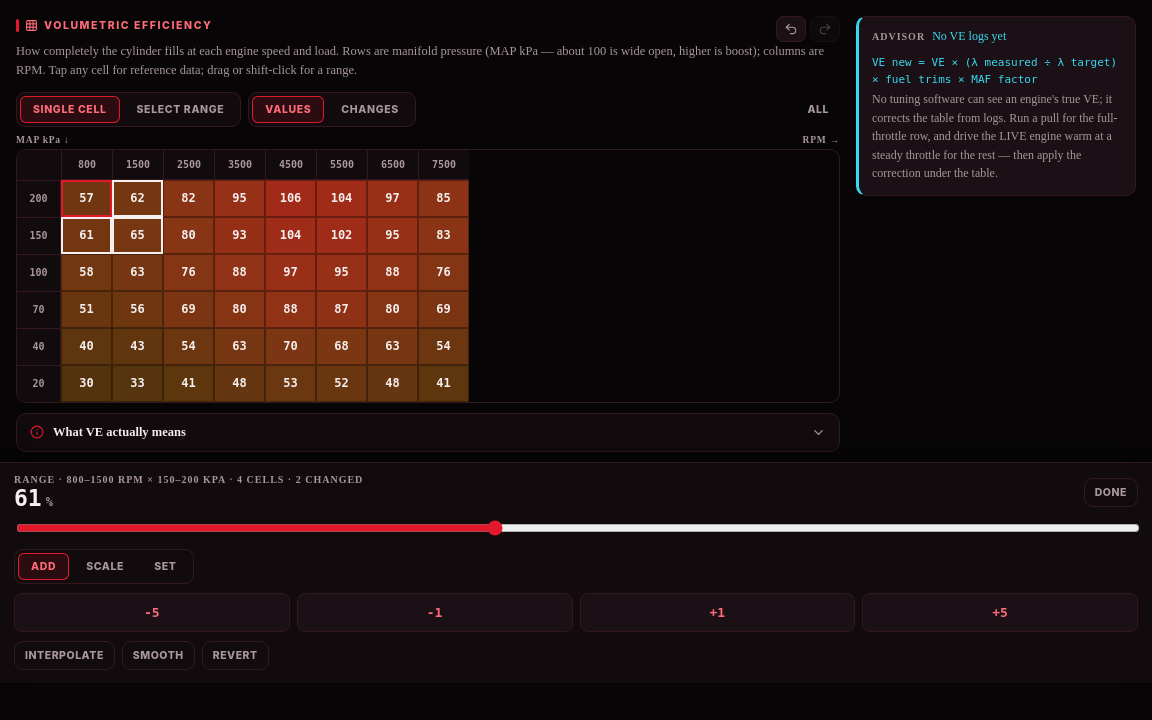
Test: REVERT and the changed count › puts the changed cells back in one undo step, counting only those
The width and height of the screenshot is (1152, 720).
Step 1. Click the button "REVERT" → (235,655), box [202,640,269,670]
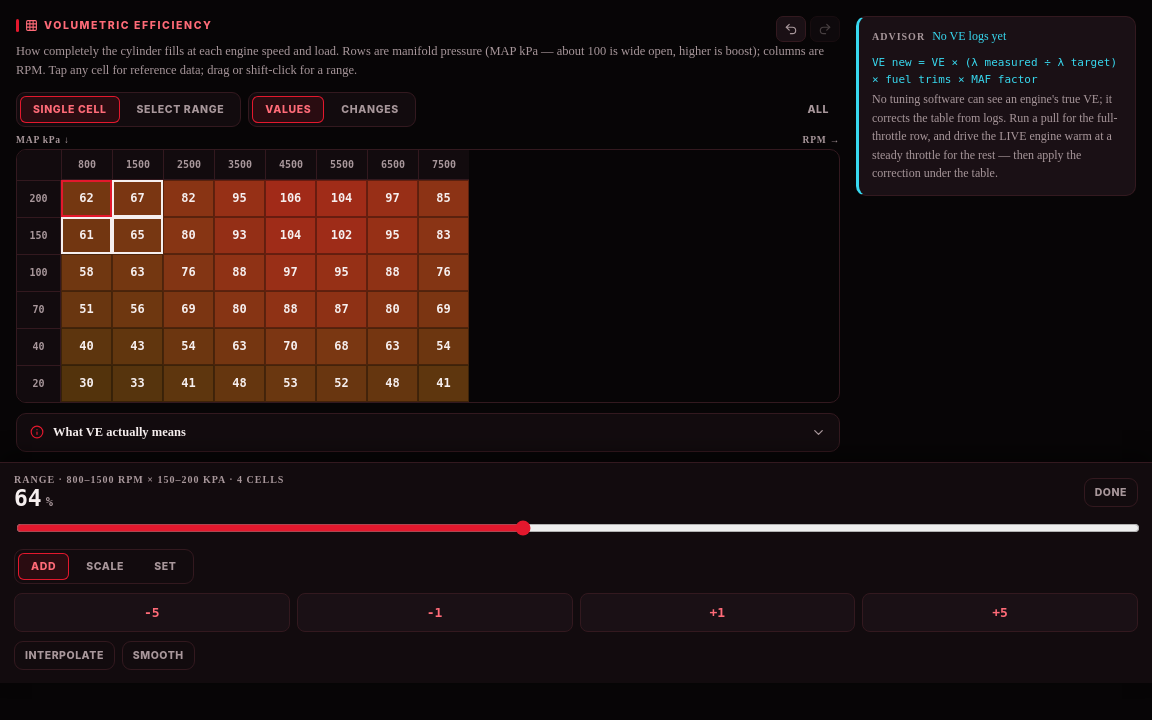
Expected: the button "REVERT" is gone
